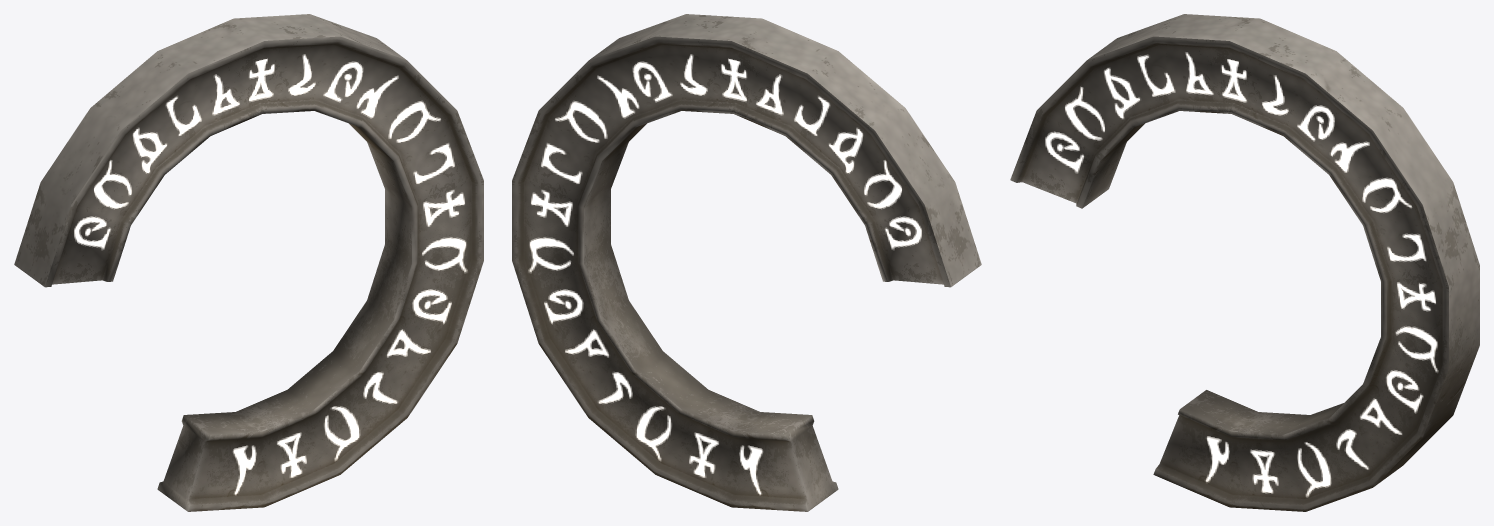
Rendered from AD_RuneGate_B_01.fbx.
The picture shows the model from 3 angles, left to right: view 1: azimuth 30°, elevation 25°; view 2: azimuth 150°, elevation 25°; view 3: azimuth 330°, elevation 25°; orthographic projection.
Visible parts, largest first — view 1: AD_RuneGate_B_01; view 2: AD_RuneGate_B_01; view 3: AD_RuneGate_B_01.
Boxes of the visible parts, x1,y1,x2,y2 form: AD_RuneGate_B_01: [14, 14, 483, 511]; AD_RuneGate_B_01: [512, 14, 981, 511]; AD_RuneGate_B_01: [1010, 14, 1479, 511].
Bounding box in the file's own units: 634 × 644 × 76.96.
1 material, 1 textured.
